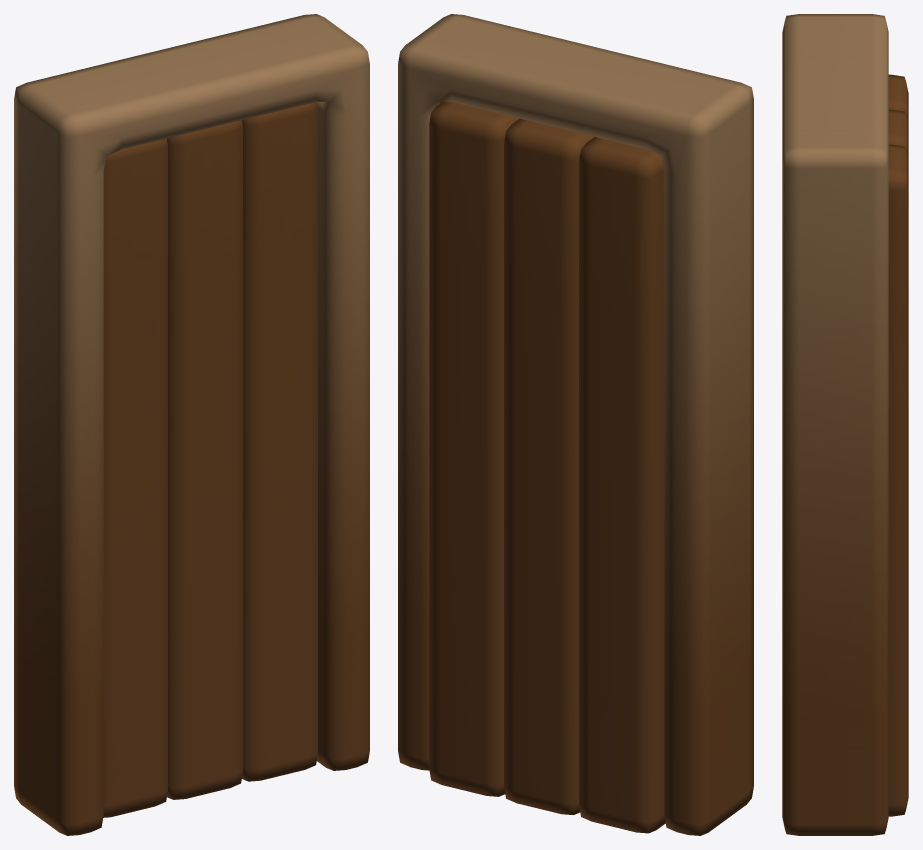
File: SM_Clay_Door_01.fbx
The picture shows the model from 3 angles, left to right: view 1: azimuth 30°, elevation 25°; view 2: azimuth 150°, elevation 25°; view 3: azimuth 270°, elevation 25°; orthographic projection. The views are drawn at different scales.
Visible parts, largest first — view 1: SM_Clay_Door_01; view 2: SM_Clay_Door_01; view 3: SM_Clay_Door_01.
Part boxes in pixels (box(x1,y1,x2,y2)): SM_Clay_Door_01: box(14, 14, 369, 835); SM_Clay_Door_01: box(398, 14, 753, 835); SM_Clay_Door_01: box(782, 14, 908, 835).
Size of the model in its own units: 0.2921 by 0.6516 by 0.1087.
